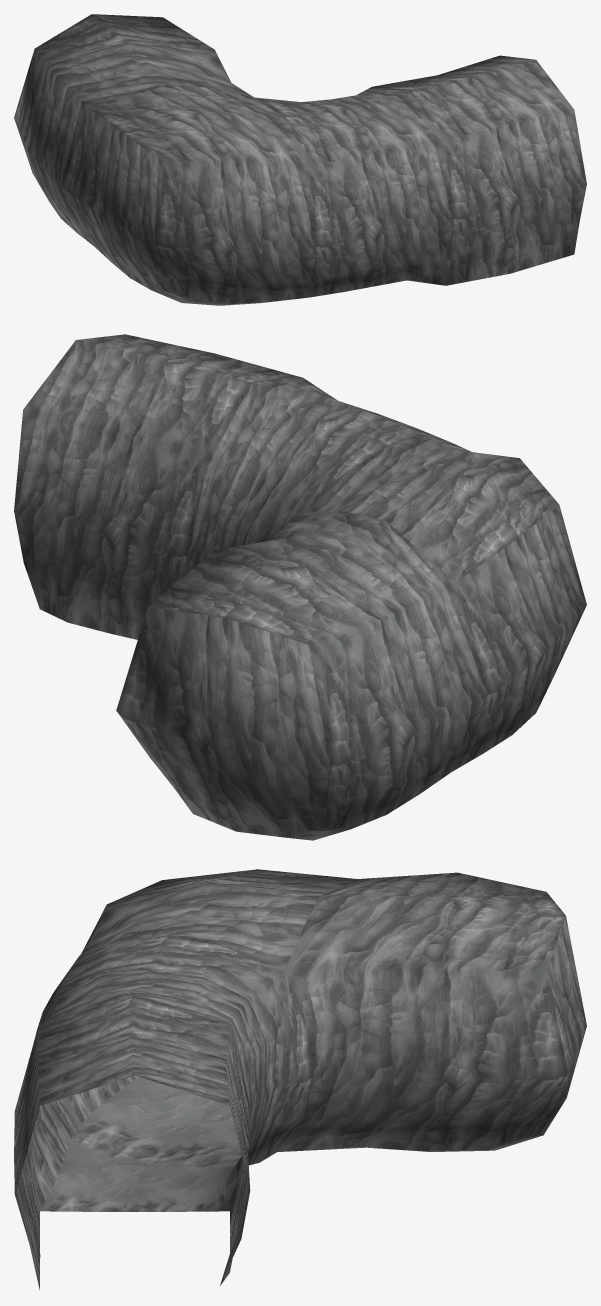
Rendered from SWORDLIGHT20_PS-AREA01_08.fbx.
The picture shows the model from 3 angles, top to bottom: view 1: azimuth 30°, elevation 25°; view 2: azimuth 150°, elevation 25°; view 3: azimuth 270°, elevation 25°; orthographic projection. The views are drawn at different scales.
Parts seen in each view (by area): view 1: SWORDLIGHT20_PS-AREA01_08; view 2: SWORDLIGHT20_PS-AREA01_08; view 3: SWORDLIGHT20_PS-AREA01_08.
Boxes of the visible parts, x1,y1,x2,y2 form: SWORDLIGHT20_PS-AREA01_08: (14, 14, 586, 305); SWORDLIGHT20_PS-AREA01_08: (14, 334, 586, 840); SWORDLIGHT20_PS-AREA01_08: (14, 869, 586, 1290).
Size of the model in its own units: 182722 by 82916 by 180980.
Materials: 3 (3 with a texture image).
